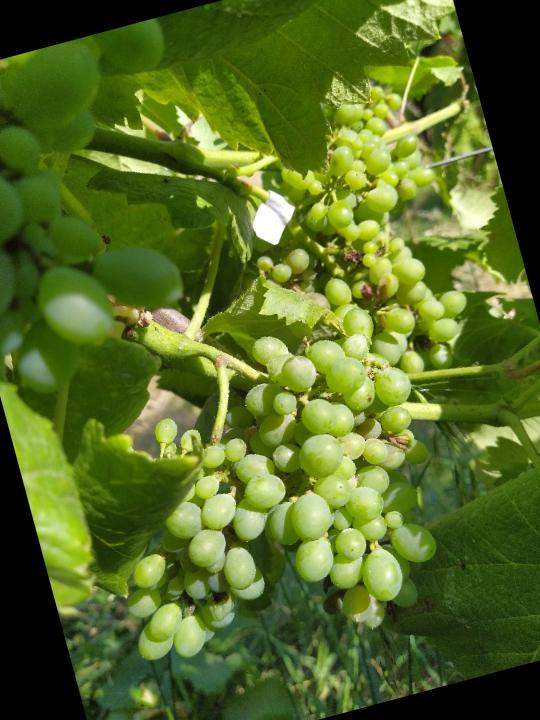grape: (64, 302, 474, 693)
